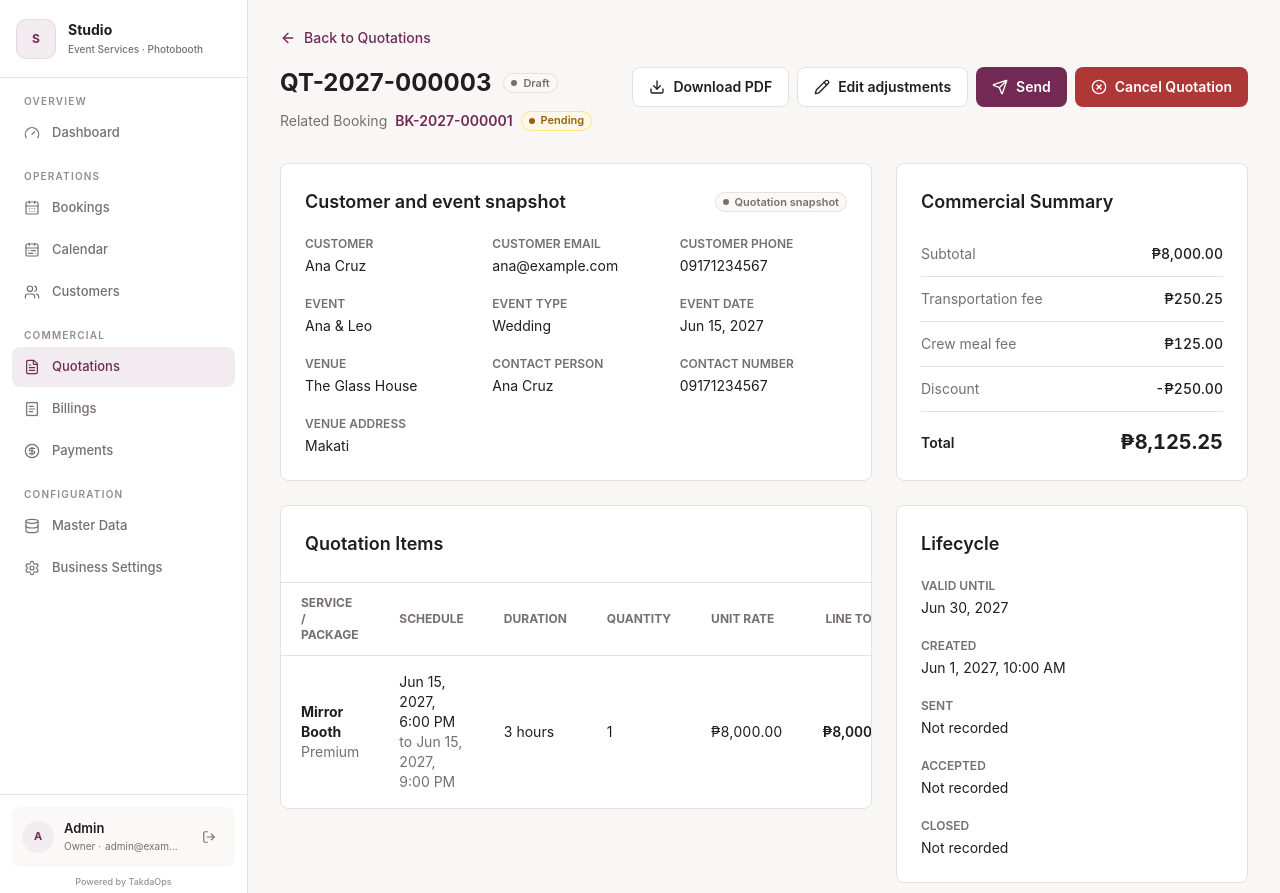
it: edits only Draft adjustments and refreshes authoritative totals
Click the button "Edit adjustments" at (883, 87), box x1=797 y1=67 x2=968 y2=107
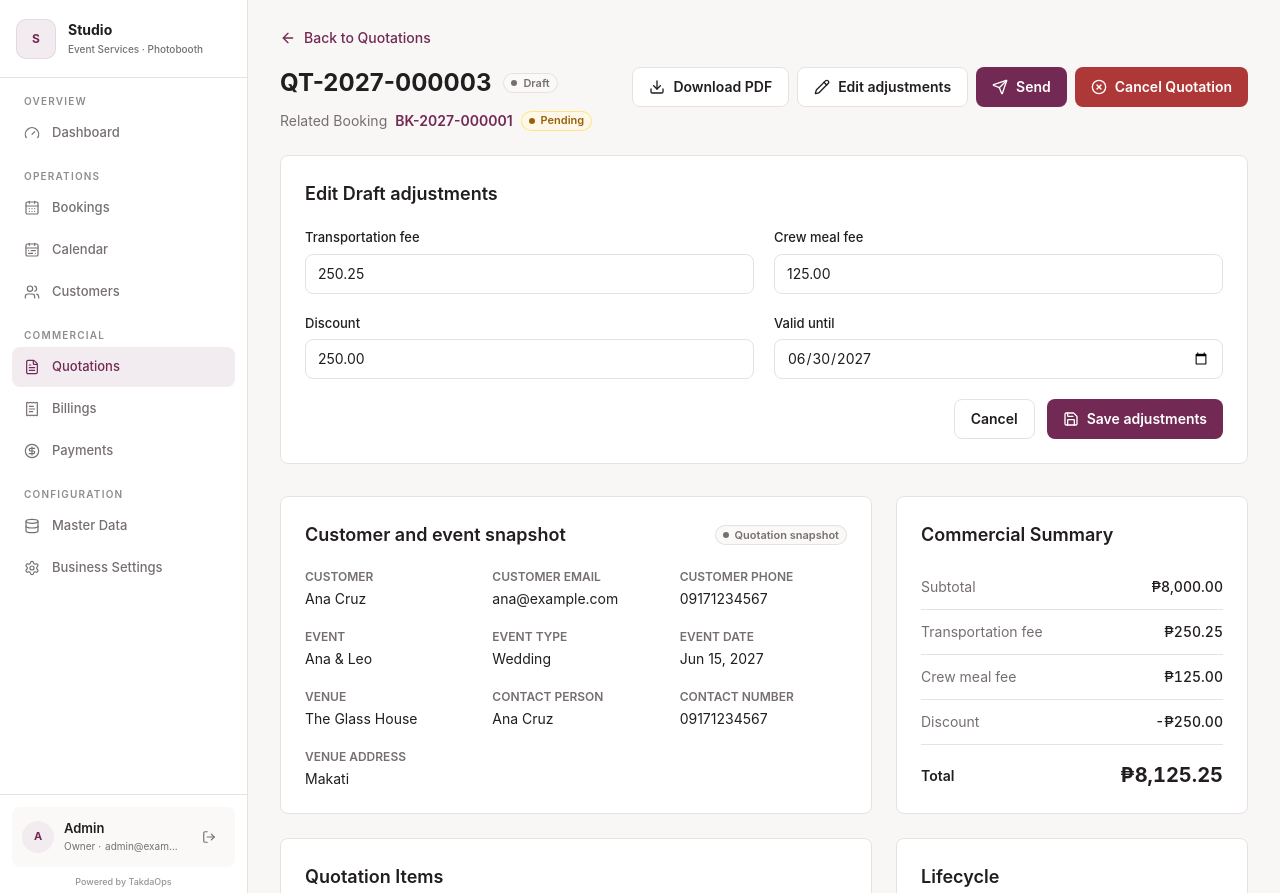
Replace the text in the field labelled "Transportation fee" with "500.00" at (530, 274), box x1=305 y1=254 x2=754 y2=294
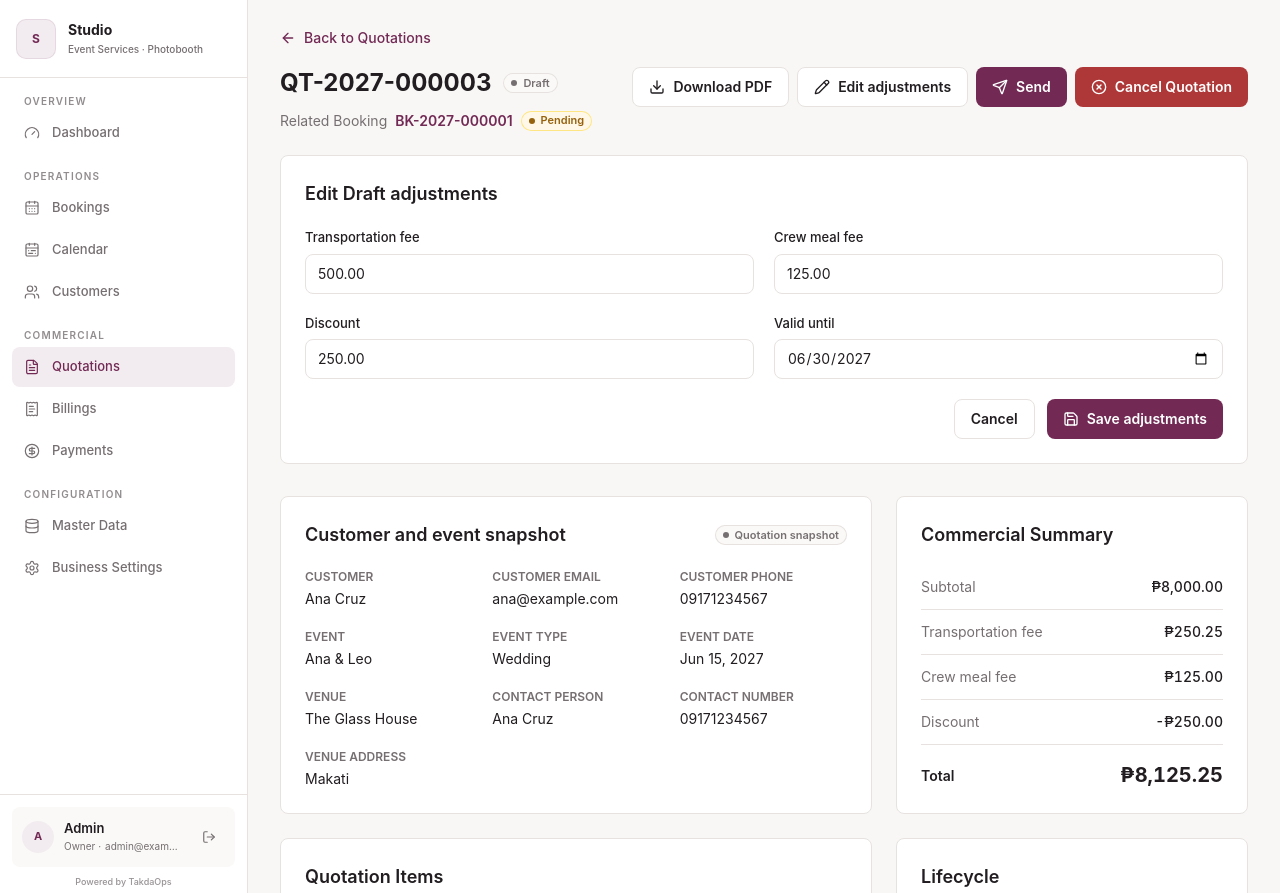
Replace the text in the field labelled "Crew meal fee" with "100.00" at (998, 274), box x1=774 y1=254 x2=1223 y2=294
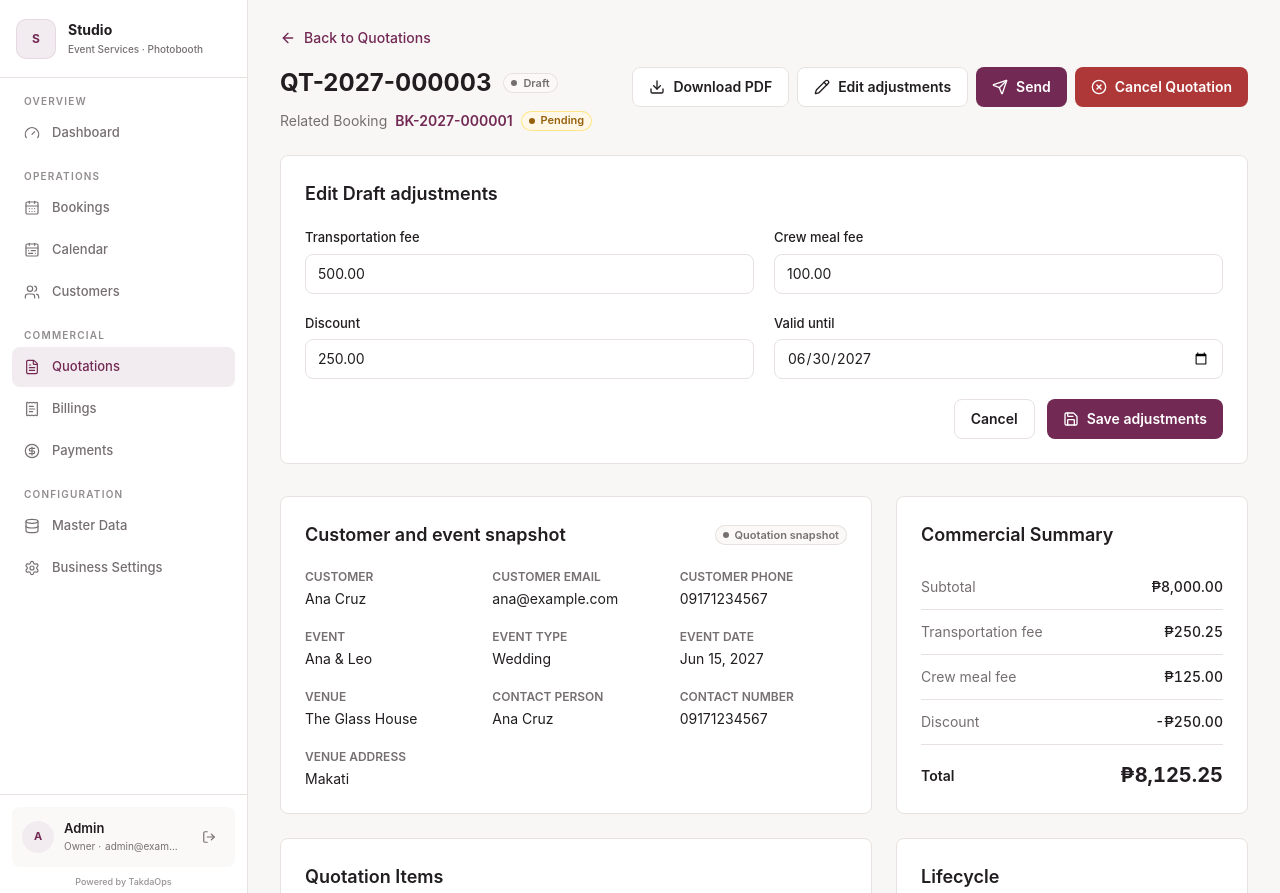
Replace the text in the field labelled "Discount" with "50.00" at (530, 359), box x1=305 y1=339 x2=754 y2=379
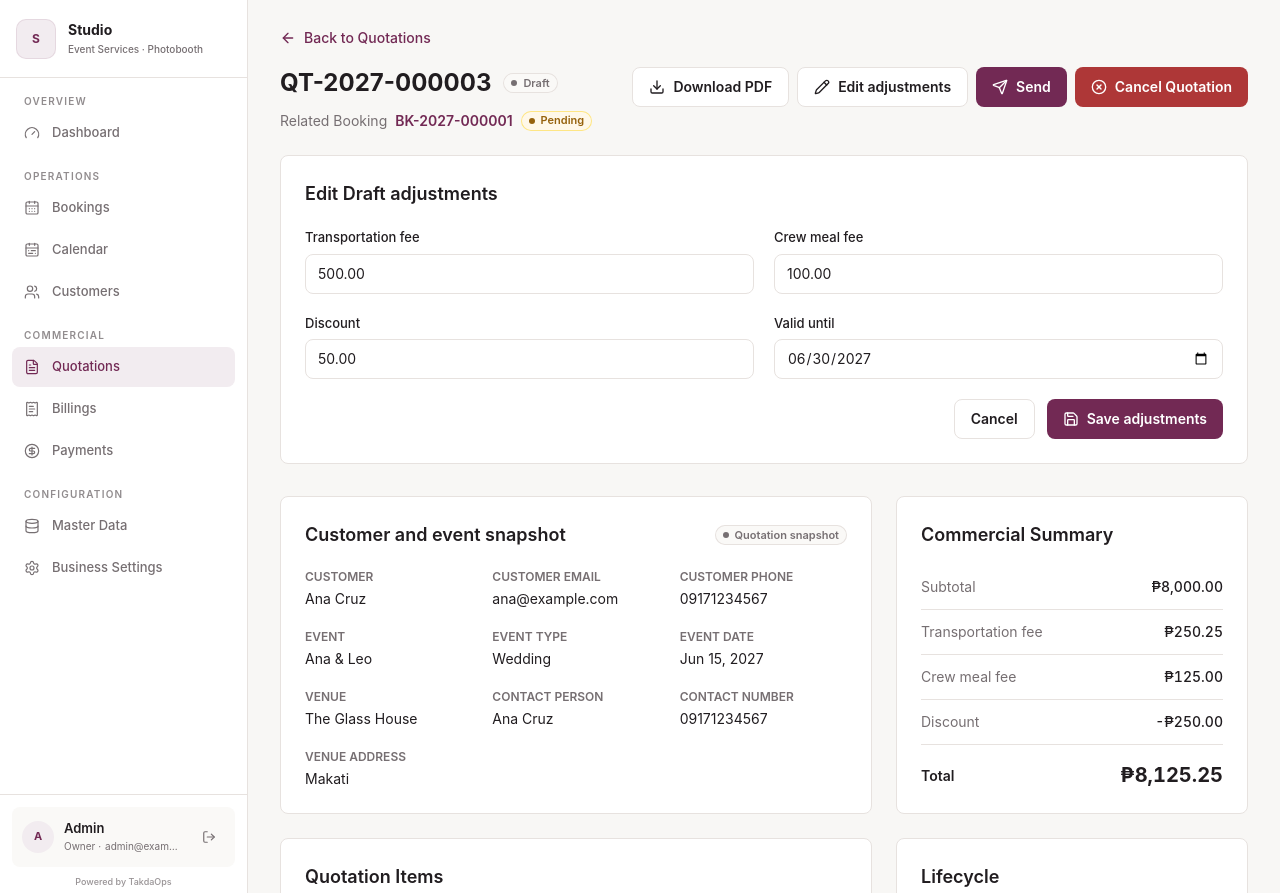
Clear the date field labelled "Valid until" at (998, 359), box x1=774 y1=339 x2=1223 y2=379
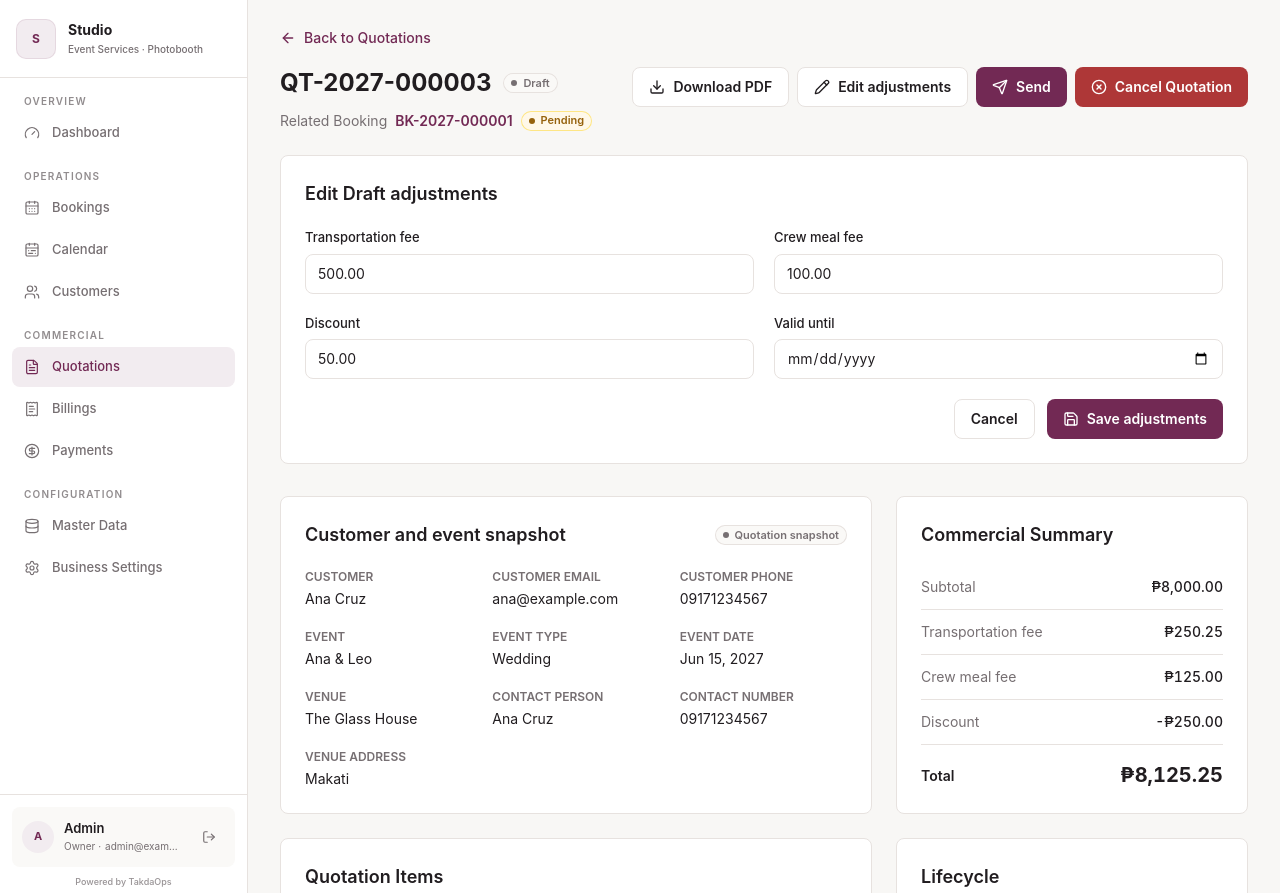
Click the button "Save adjustments" at (1135, 419), box x1=1047 y1=399 x2=1223 y2=439
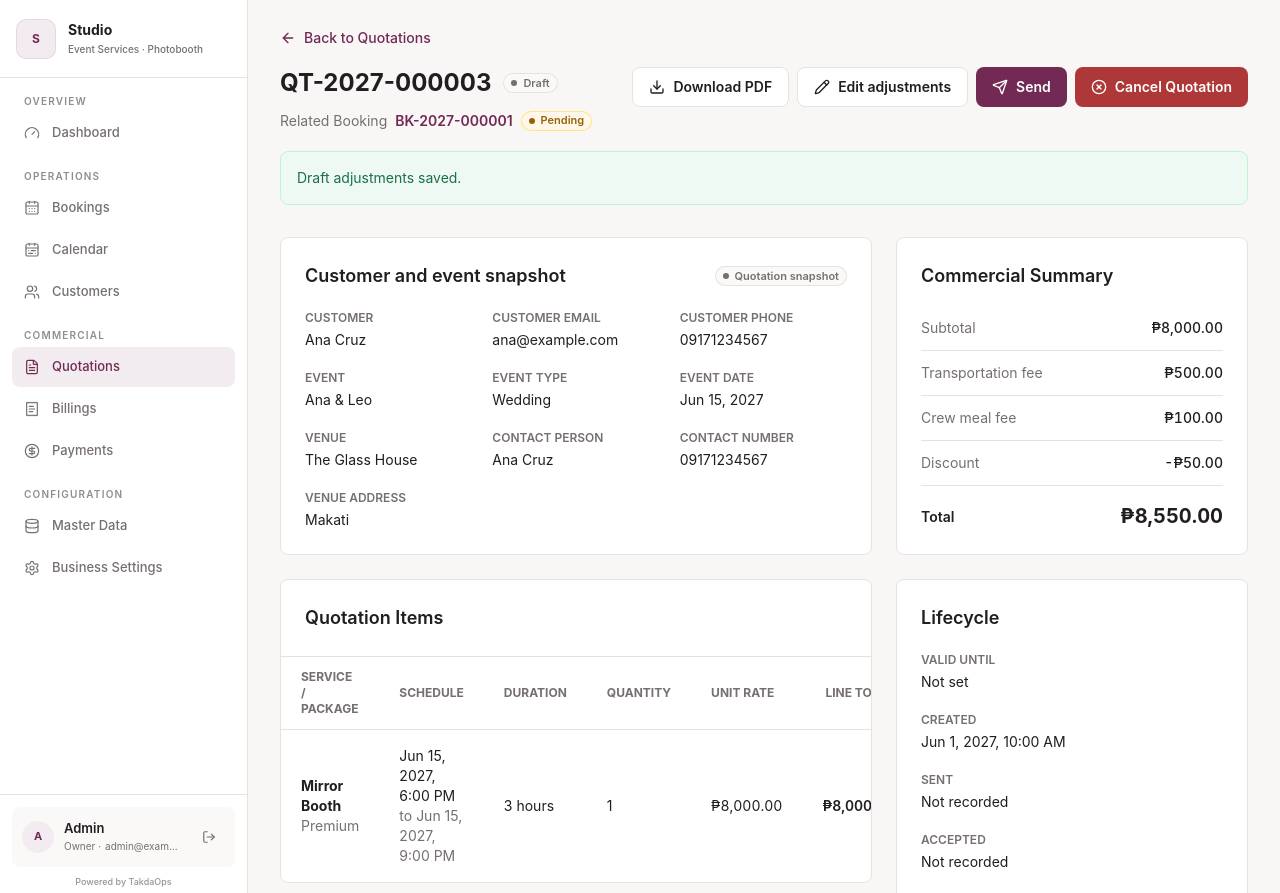
expect the text "Draft adjustments saved." is shown: met, box x1=280 y1=151 x2=1248 y2=205
expect the text "₱8,550.00" is shown: met, box x1=1120 y1=502 x2=1223 y2=530
